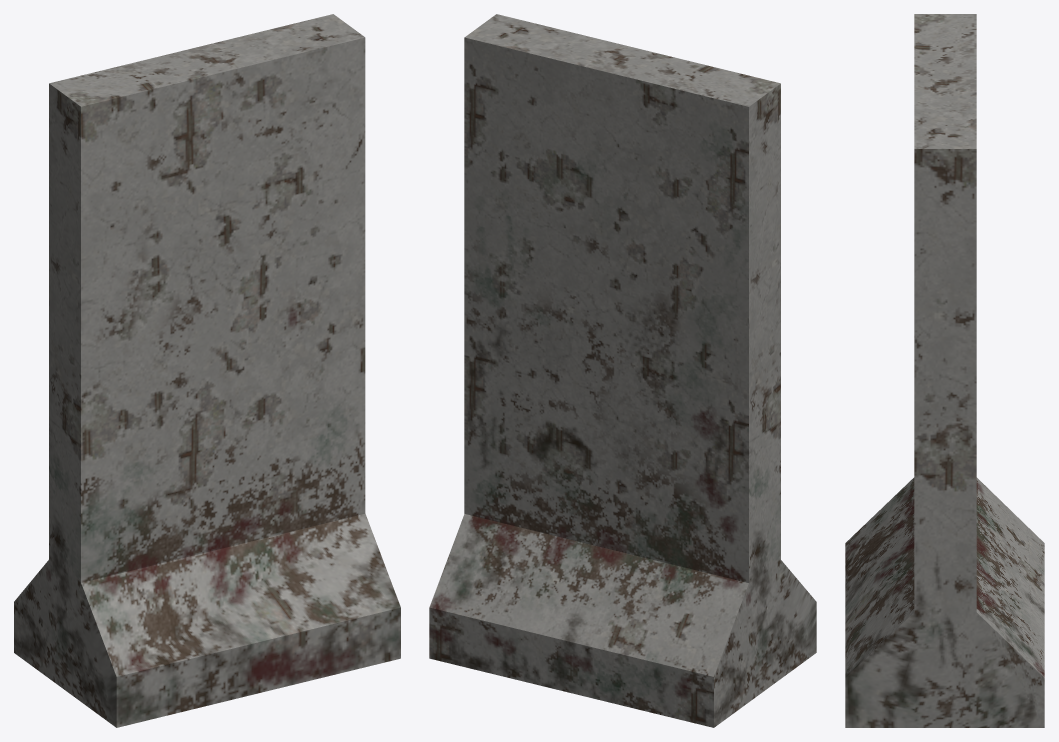
3 renders of one model, left to right at view 1: azimuth 30°, elevation 25°; view 2: azimuth 150°, elevation 25°; view 3: azimuth 270°, elevation 25°, orthographic. The views are drawn at different scales.
Visible parts, largest first — view 1: barrier_concrete_vert_Lo; view 2: barrier_concrete_vert_Lo; view 3: barrier_concrete_vert_Lo.
Part boxes in pixels (left/top/right/bottom): barrier_concrete_vert_Lo: left=14, top=14, right=400, bottom=727; barrier_concrete_vert_Lo: left=429, top=14, right=816, bottom=727; barrier_concrete_vert_Lo: left=845, top=14, right=1044, bottom=727.
Size of the model in its own units: 128 by 256 by 80.
1 material, 1 textured.
